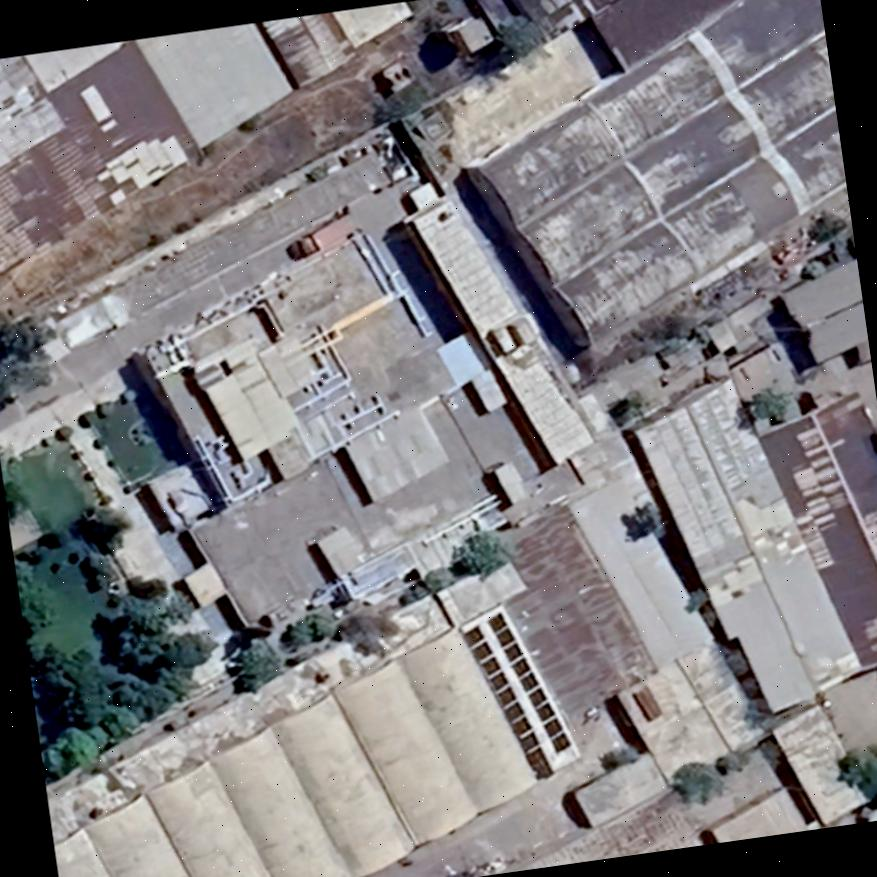Solarpanel: (460, 623, 555, 781), (485, 609, 571, 754)
